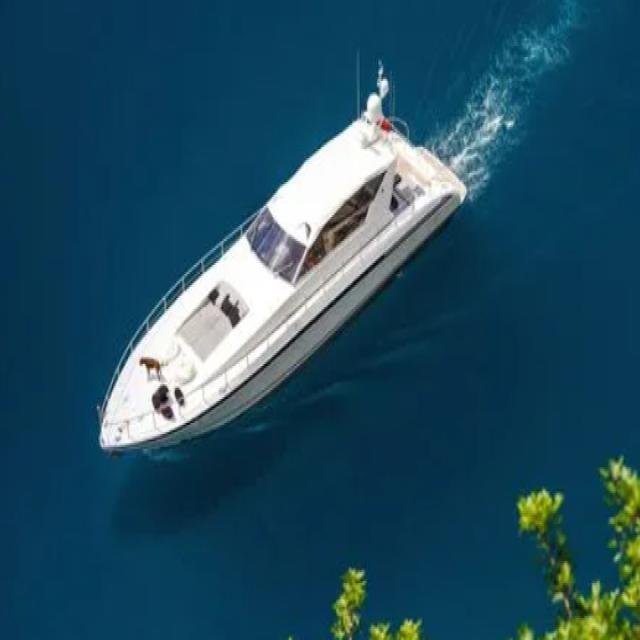houseboat: (92, 76, 466, 458)
